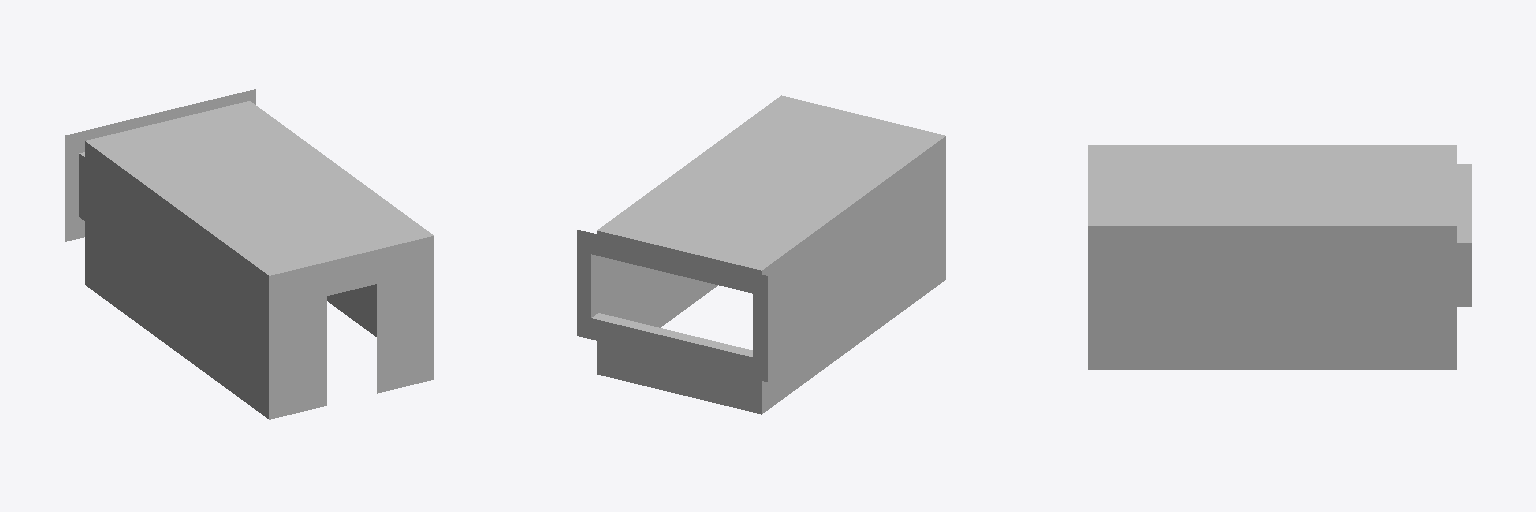
File: dorm.obj
3 views of the same model, side by side, from view 1: azimuth 30°, elevation 25°; view 2: azimuth 150°, elevation 25°; view 3: azimuth 270°, elevation 25° (orthographic).
Parts seen in each view (by area): view 1: Cube_Cube.001; view 2: Cube_Cube.001; view 3: Cube_Cube.001.
Part boxes in pixels (bbox=[...]): Cube_Cube.001: bbox=[65, 89, 433, 419]; Cube_Cube.001: bbox=[577, 95, 945, 414]; Cube_Cube.001: bbox=[1088, 145, 1471, 369].
Size of the model in its own units: 3.83 by 2.82 by 6.65.